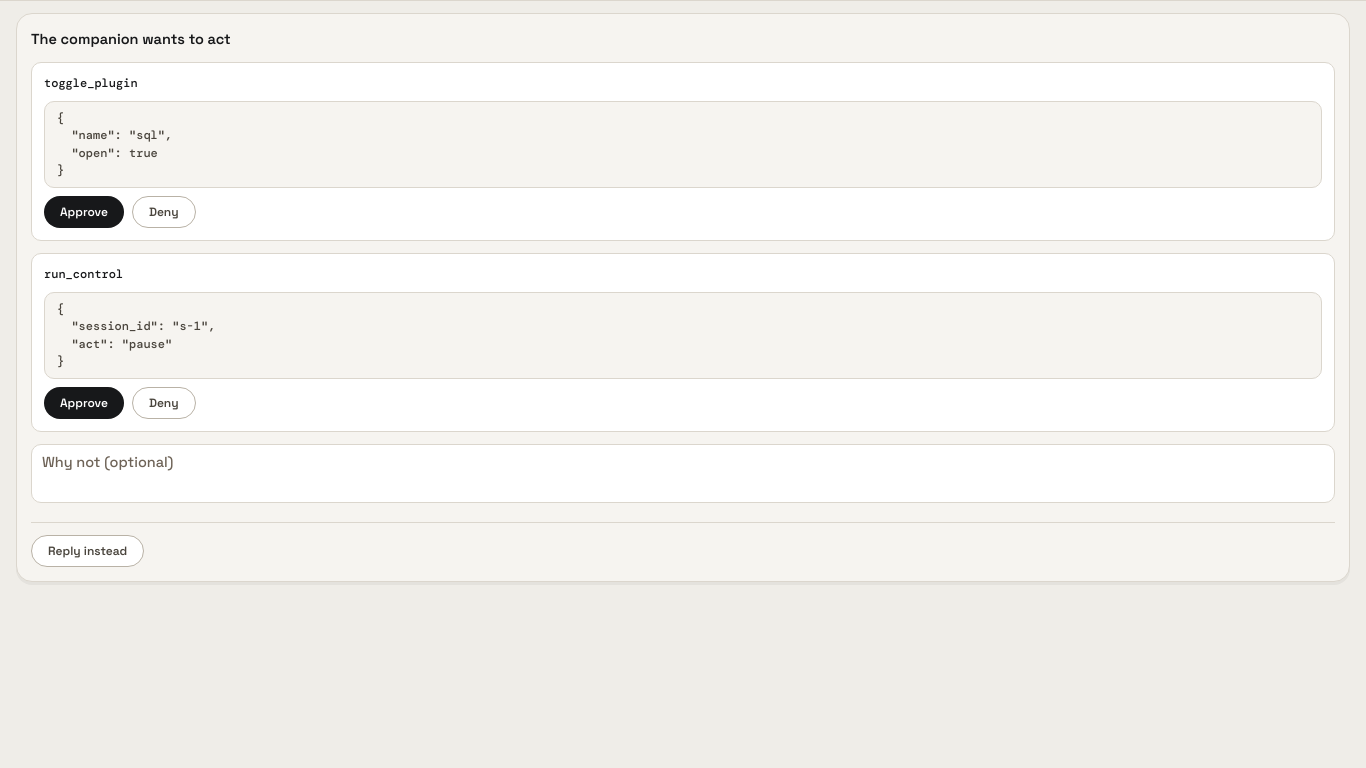
it: ApprovalCard › locks an act's own block the instant it is answered, before any round trip, and leaves a different pending act untouched
What coordinates should you click on to do the following:
click the button with aria-label "Approve toggle_plugin"
I would click on:
 (84, 212)
Its box is [44,196,124,228].
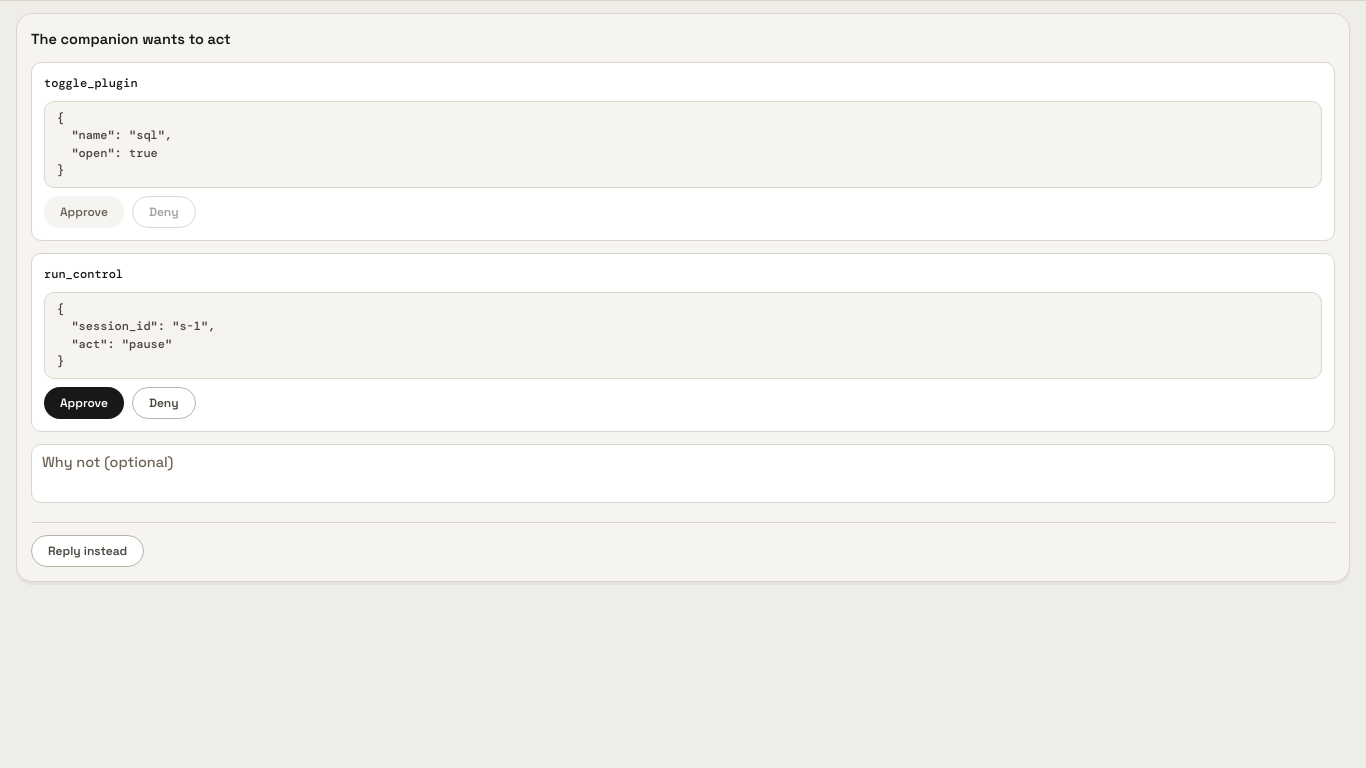
Check: the button with aria-label "Approve run_control" is enabled, box [44,387,124,419]
Check: the button with aria-label "Approve toggle_plugin" is disabled, box [44,196,124,228]
